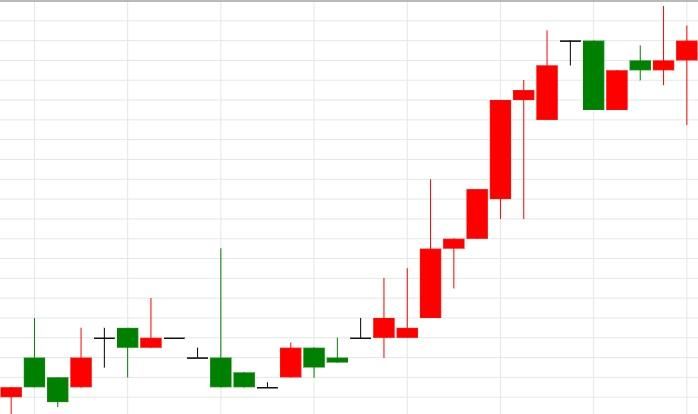evening_star_fall: (232, 31, 605, 389)
inverse_hammer_rise: (116, 248, 232, 388)
